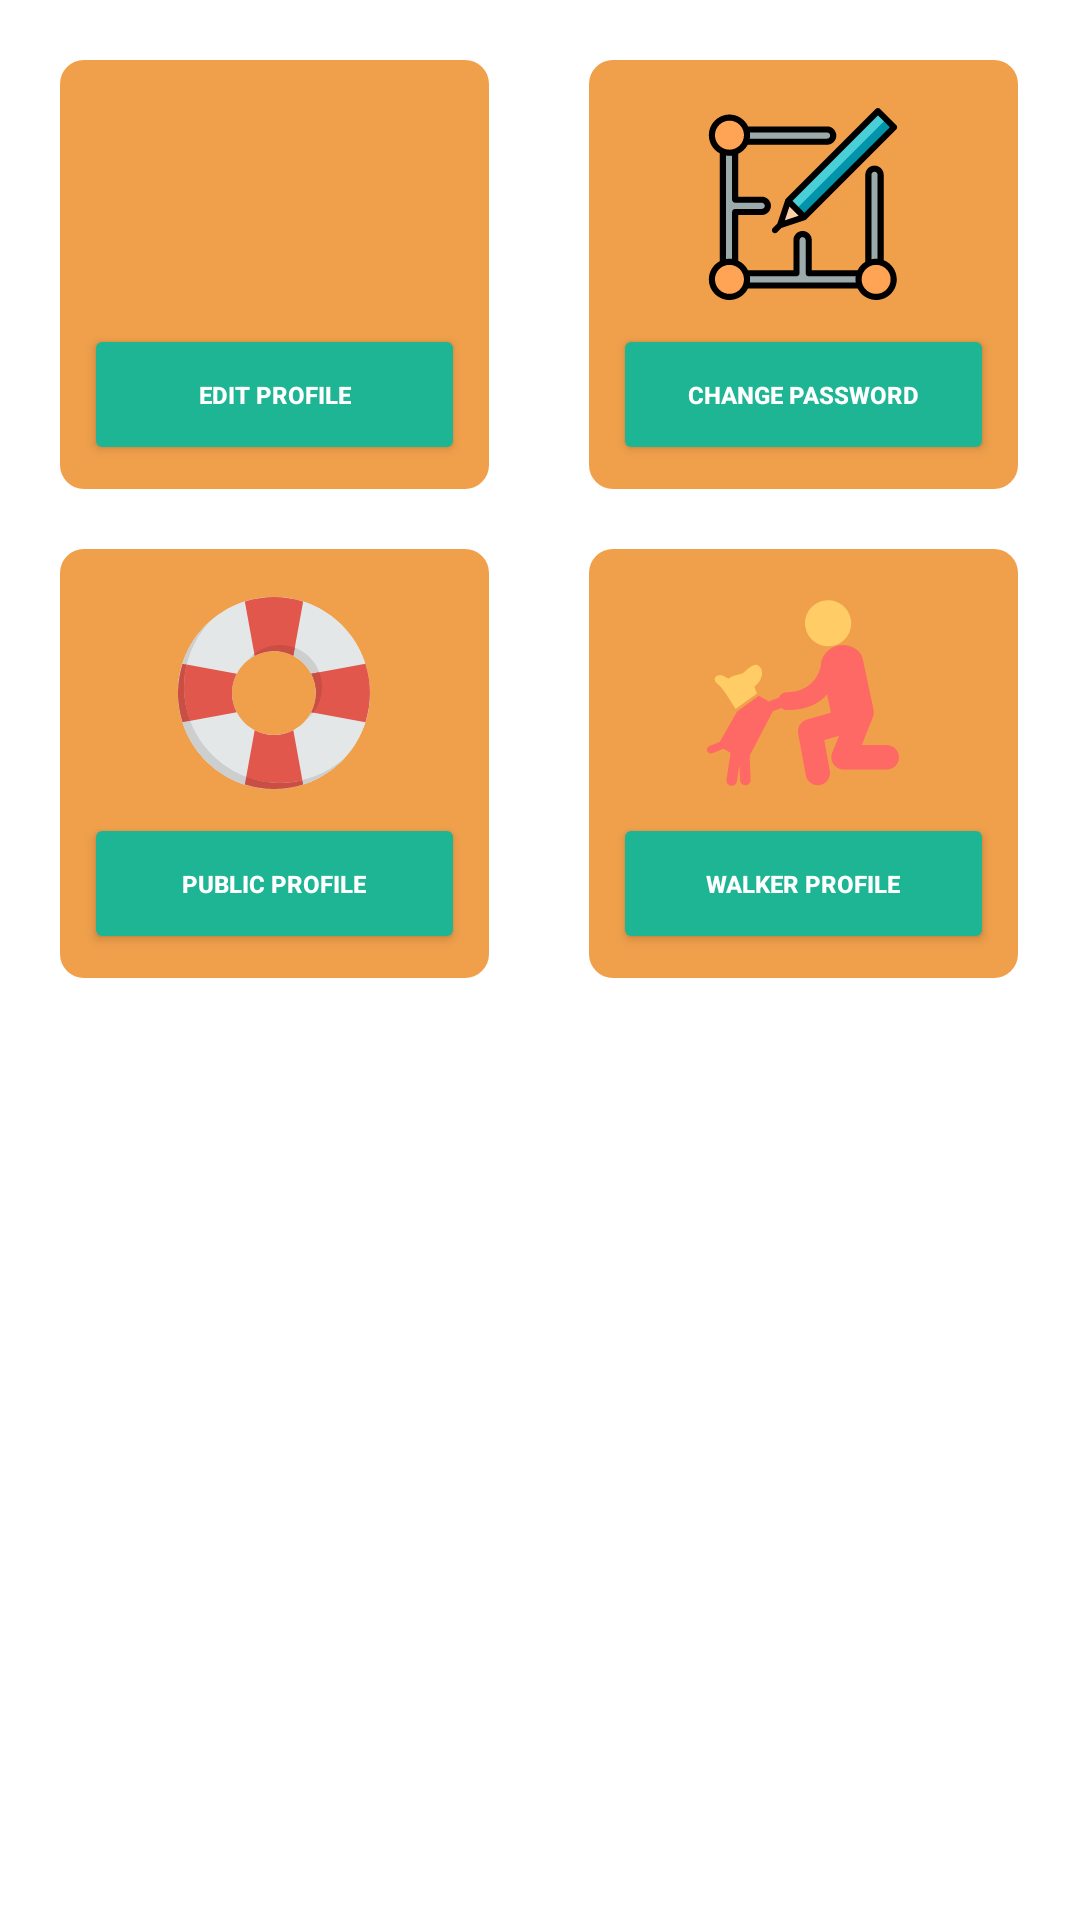

Icons on this 1080px×1920px Android screen, each with the point to tap as point (x, y):
help: point (274, 693)
layout: point (803, 204)
